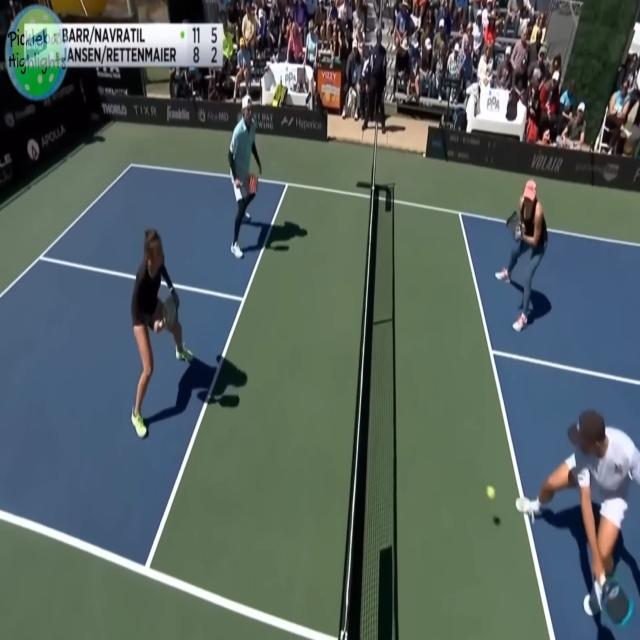ball: (481, 483, 499, 508)
